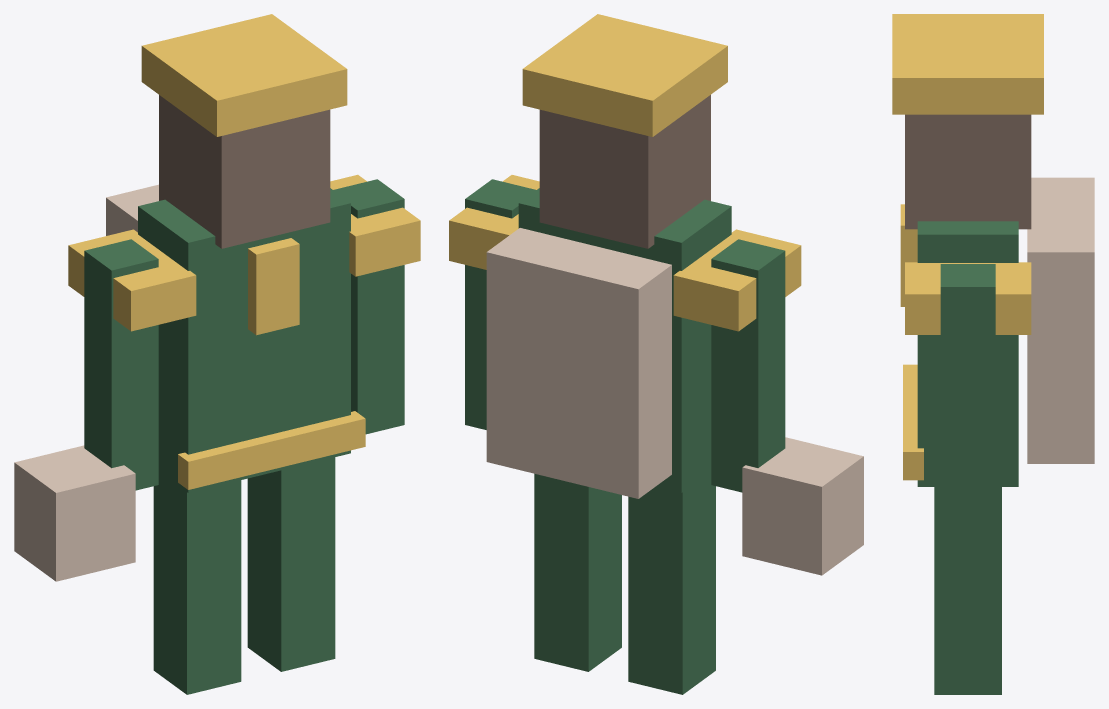
Rendered from 05_vexa_tideforged_sentinel_near_ranger.glb.
3 views of the same model, side by side, from view 1: azimuth 30°, elevation 25°; view 2: azimuth 150°, elevation 25°; view 3: azimuth 270°, elevation 25° (orthographic).
Visible parts, largest first — view 1: Vexa Tideforged, Sentinel near Ranger; view 2: Vexa Tideforged, Sentinel near Ranger; view 3: Vexa Tideforged, Sentinel near Ranger.
Part boxes in pixels (box(x1,y1,x2,y2)): Vexa Tideforged, Sentinel near Ranger: box(14, 14, 420, 694); Vexa Tideforged, Sentinel near Ranger: box(449, 14, 863, 694); Vexa Tideforged, Sentinel near Ranger: box(892, 14, 1094, 694).
Bounding box in the file's own units: 1.01 × 1.62 × 0.4858.
